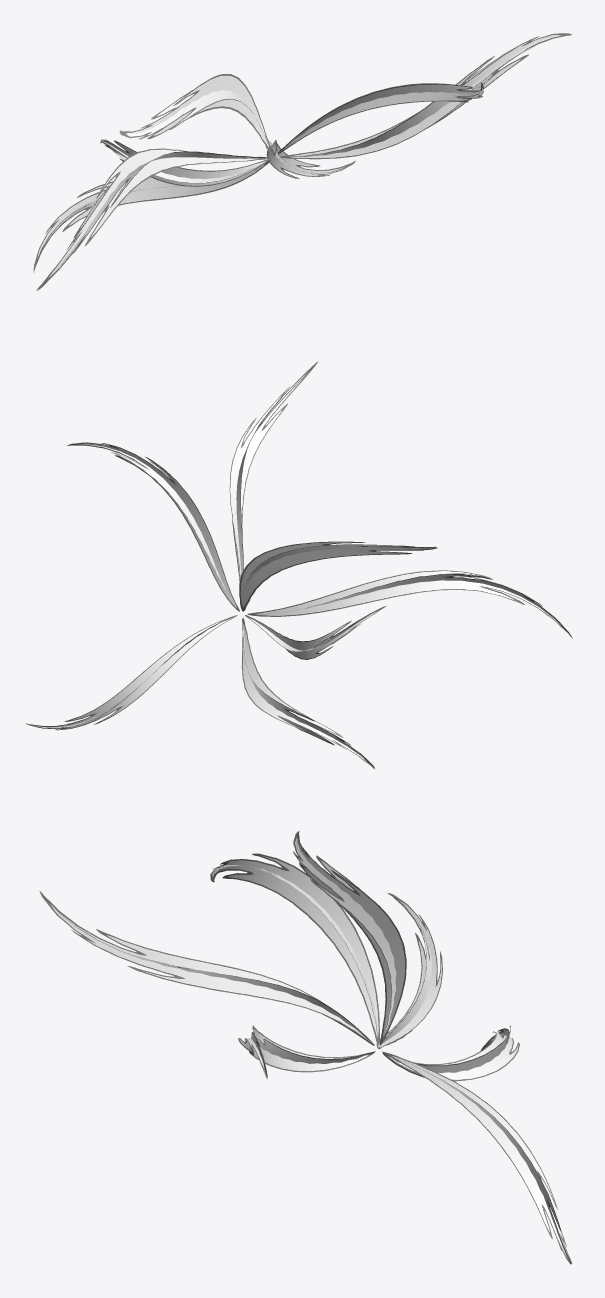
The model's file is fx_m10321_skill02.fbx.
3 views of the same model, one above another, from view 1: azimuth 30°, elevation 25°; view 2: azimuth 150°, elevation 25°; view 3: azimuth 270°, elevation 25° (orthographic). The views are drawn at different scales.
Visible parts, largest first — view 1: helix; view 2: helix; view 3: helix.
Part boxes in pixels (<box>): helix: <box>33,33,571,290</box>; helix: <box>25,361,572,769</box>; helix: <box>39,831,572,1264</box>.
Size of the model in its own units: 1999 by 988 by 1462.
1 material, 1 textured.
